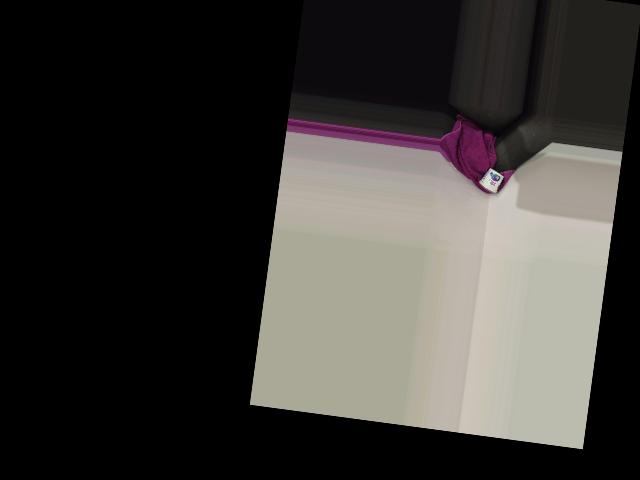cotage: (478, 167, 503, 195)
